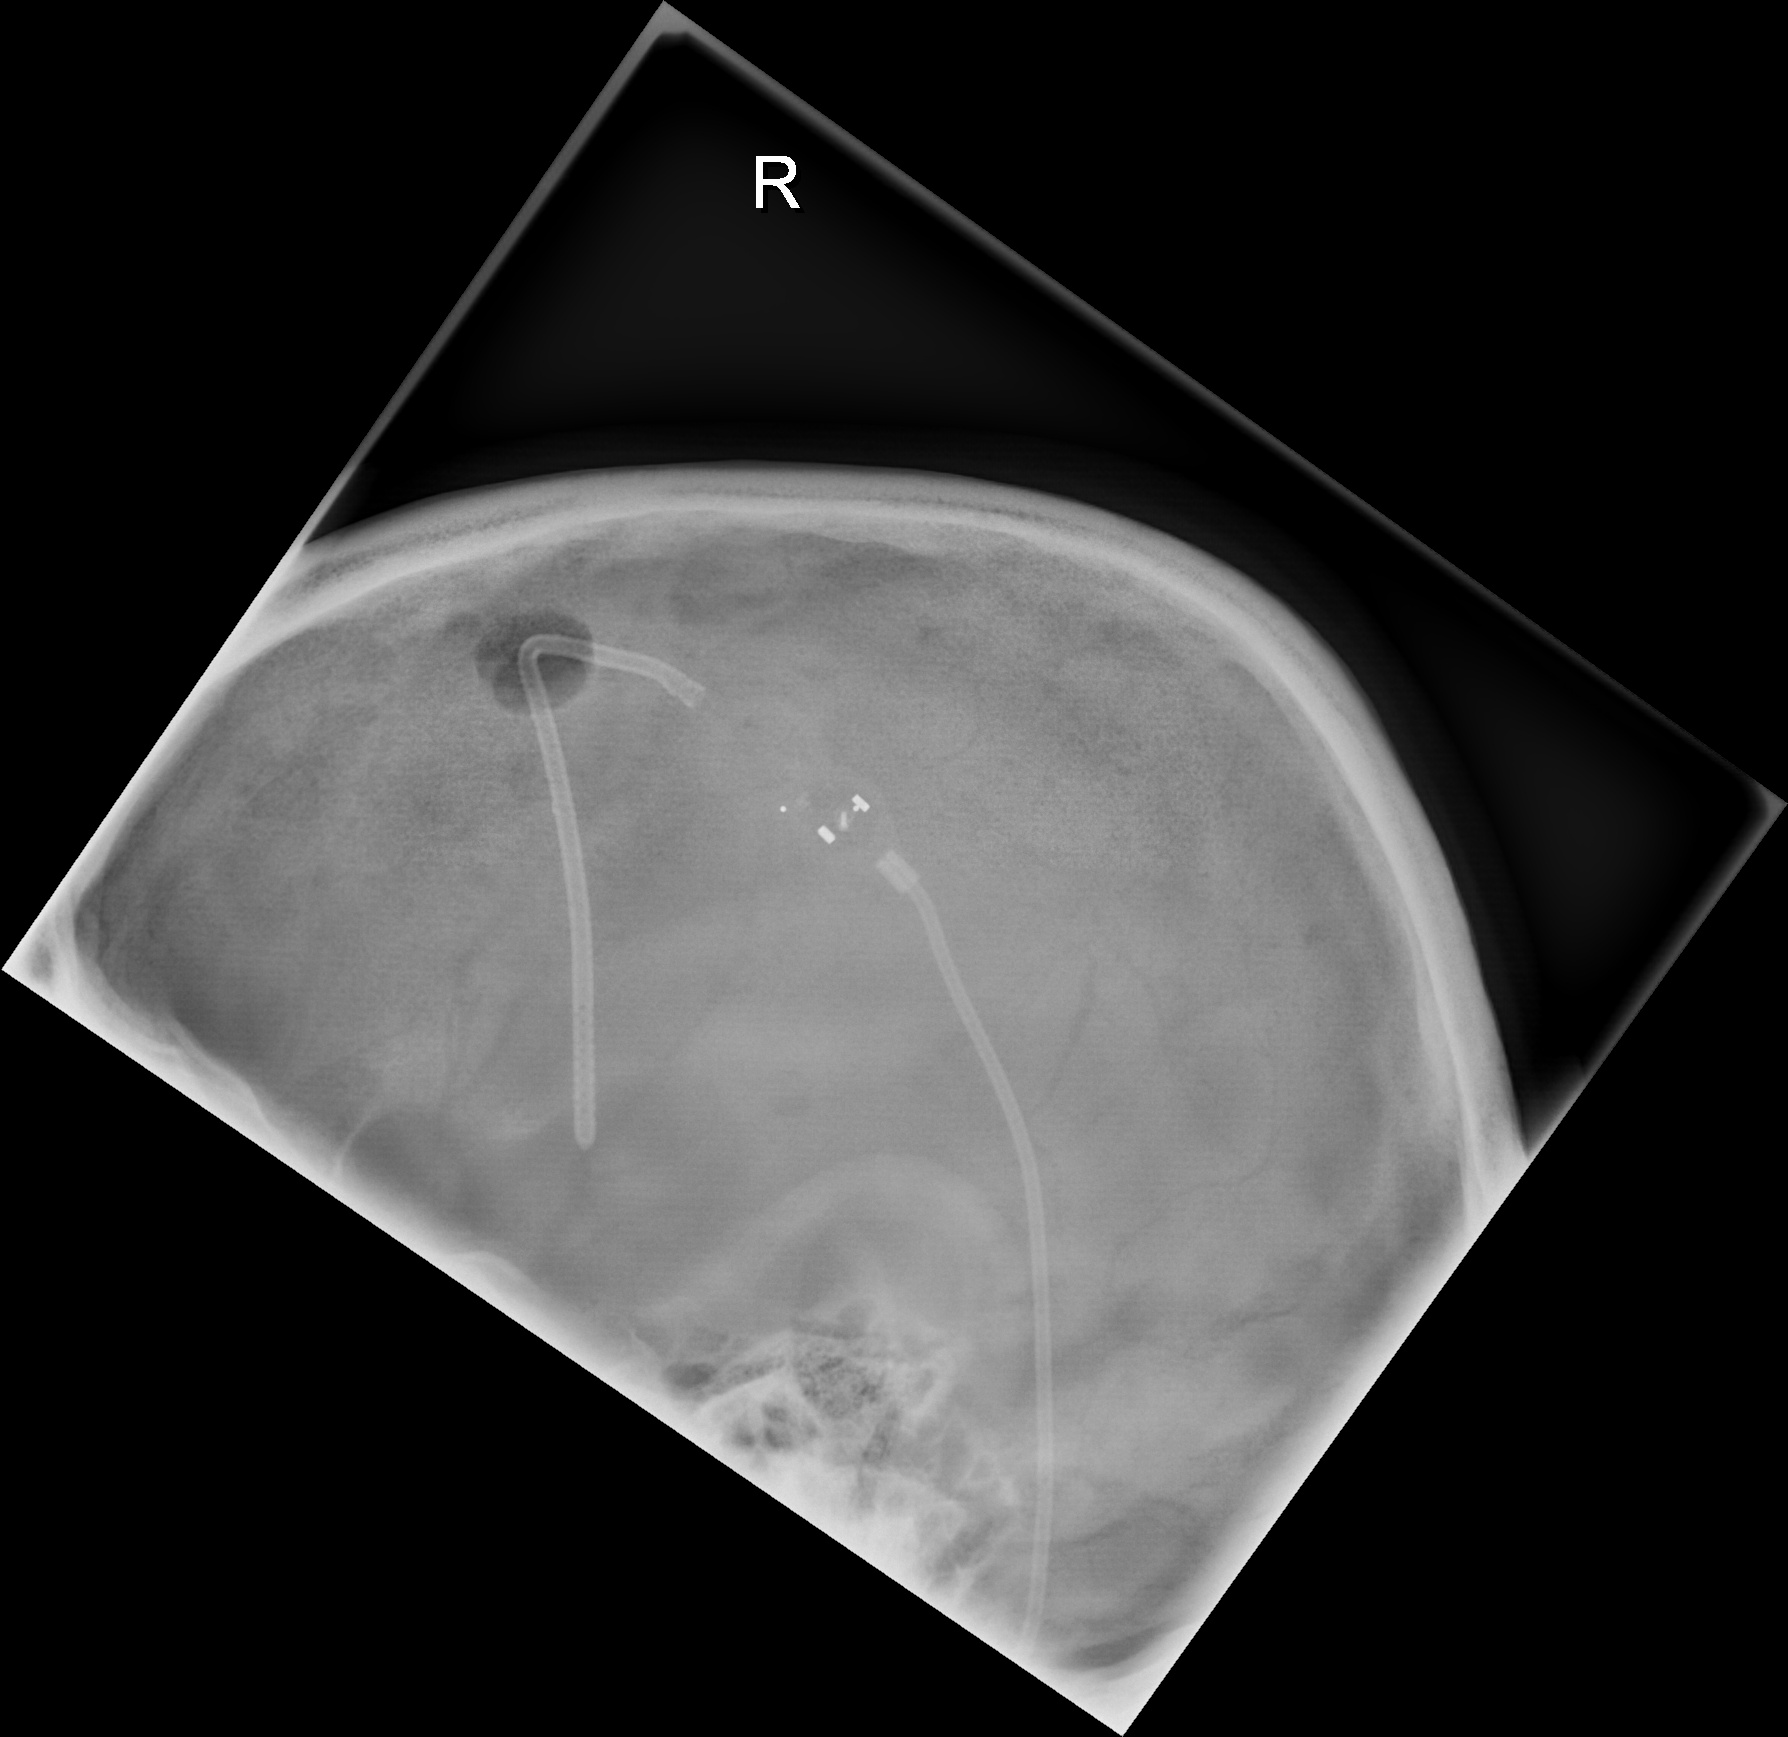Codman Certas: (766, 762, 908, 888)
